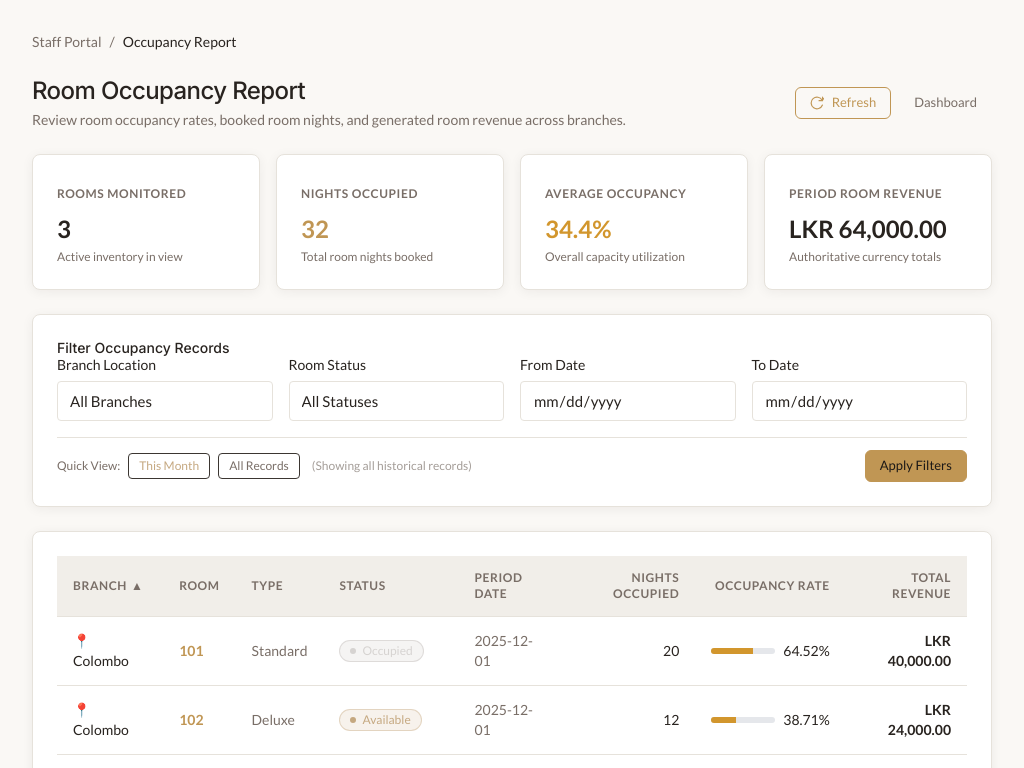
Test: OccupancyReportPage (P05-M02-T01) › shows error if fromDate is after toDate
Type "2025-12-31" into the date field labelled "From Date" at (628, 401), box [520,381,736,421]
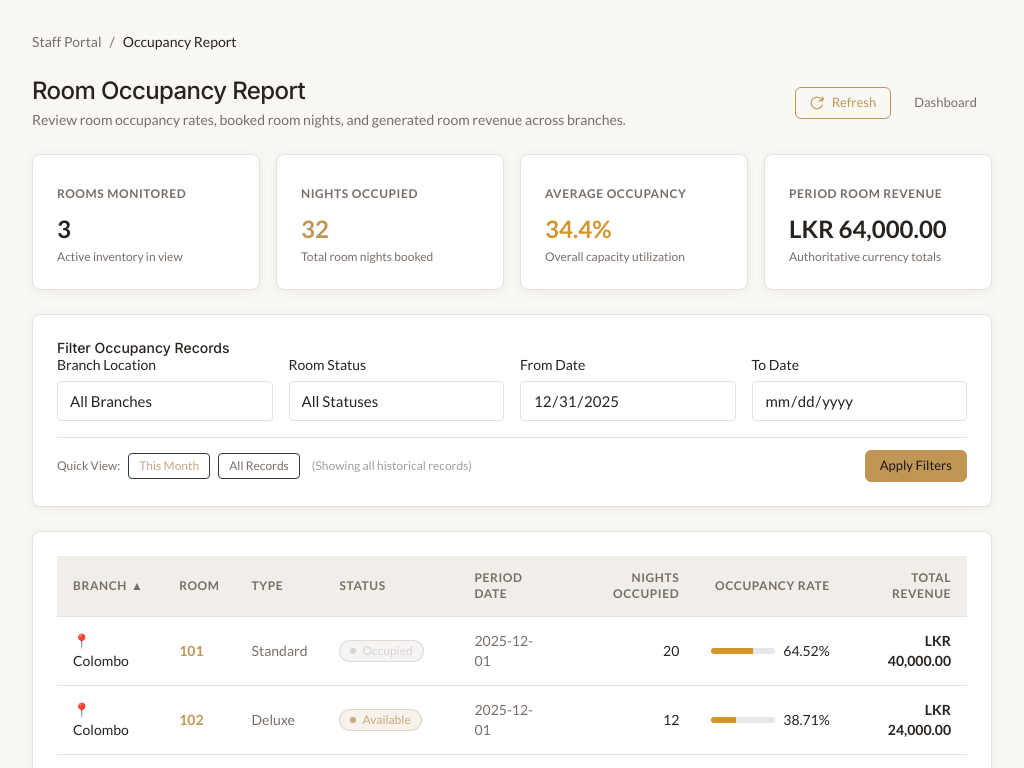
Type "2025-12-01" into the date field labelled "To Date" at (859, 401), box [752,381,967,421]
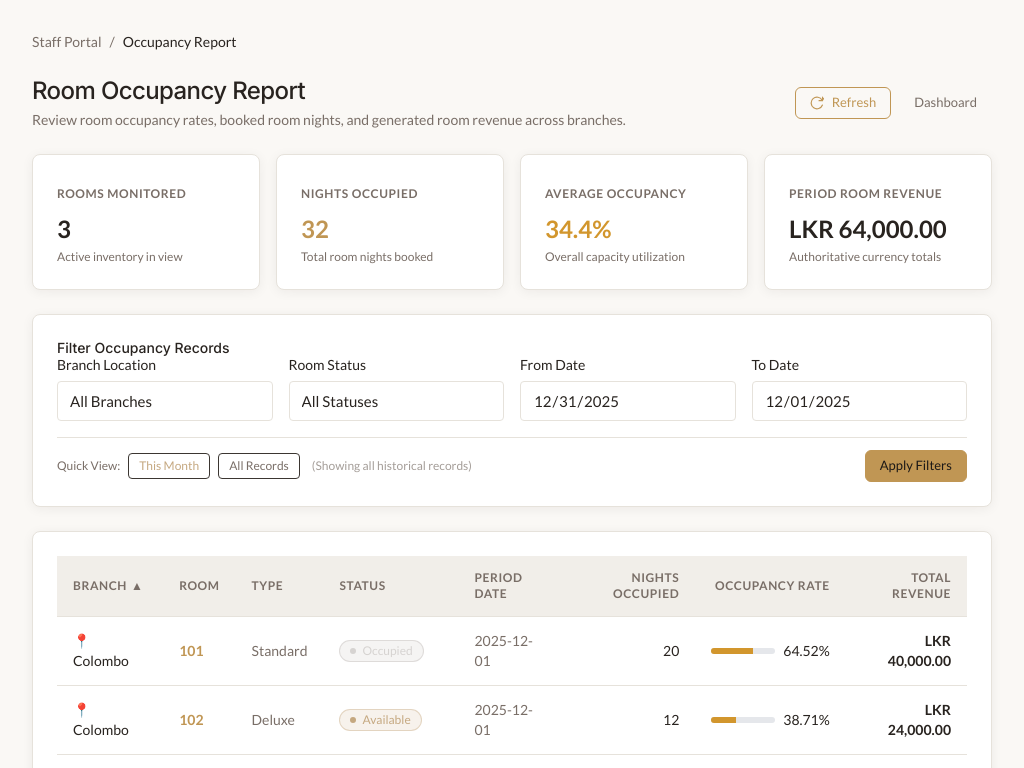
Click the button "Apply Filters" at (916, 466), box [865,450,967,482]
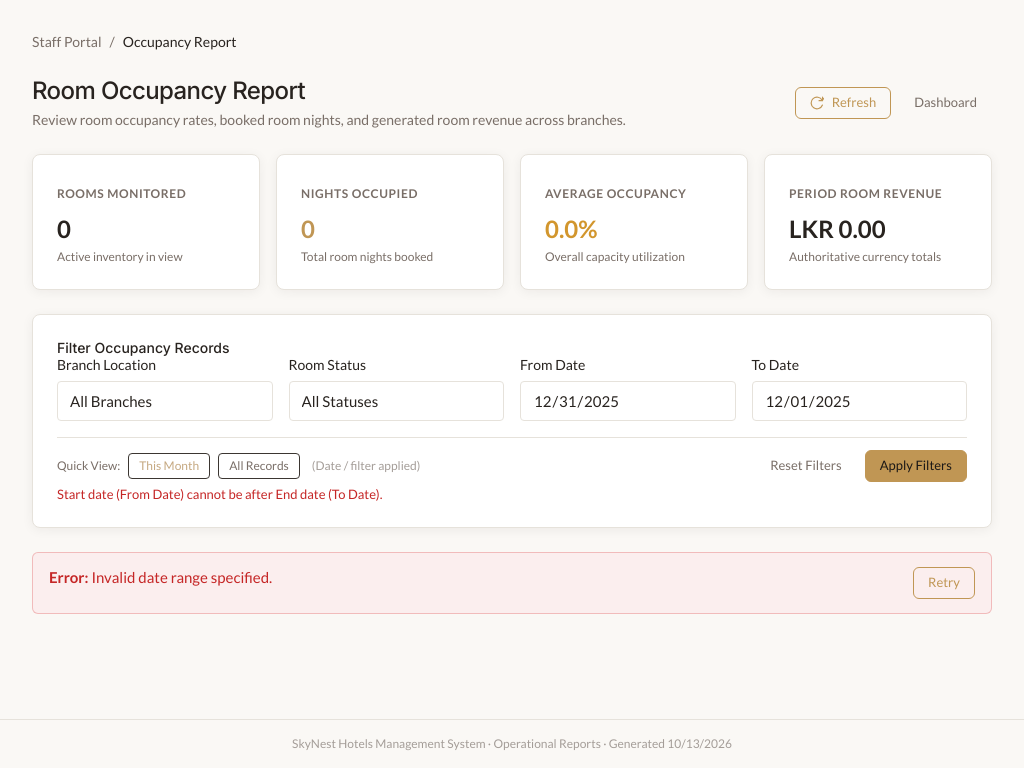
Now the text "Start date (From Date) cannot be after End date (To Date)." is shown, box [57,486,382,502]
